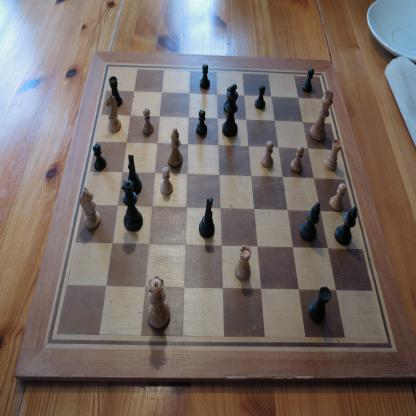black-bishop: (334, 206, 358, 245), (300, 201, 320, 242)
black-king: (222, 83, 239, 138)
black-knight: (198, 197, 215, 238), (128, 154, 142, 194)
black-pawn: (92, 143, 107, 171), (196, 109, 208, 136), (254, 84, 266, 110), (302, 68, 314, 92), (200, 64, 210, 90), (223, 86, 231, 112)
black-queen: (121, 178, 144, 232)
black-rook: (308, 285, 332, 323), (108, 76, 122, 108)
white-bishop: (167, 127, 183, 168)
white-king: (309, 88, 334, 142)
white-knight: (79, 187, 101, 230), (104, 91, 122, 133)
white-pawn: (329, 183, 347, 212), (260, 140, 274, 168), (290, 146, 304, 174), (160, 166, 173, 196), (142, 108, 154, 135)
white-queen: (147, 274, 171, 330)
white-rook: (234, 244, 252, 281), (323, 138, 342, 172)
